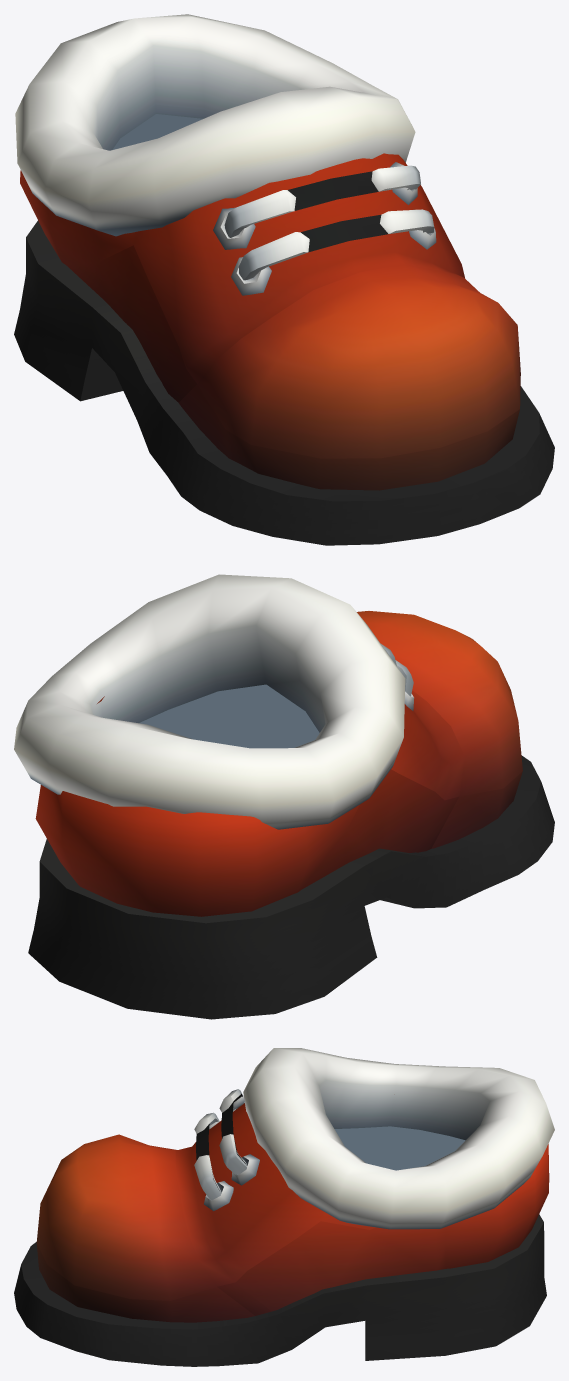
Rendered from Shoes_NY_01_L.gltf.
3 views of the same model, one above another, from view 1: azimuth 30°, elevation 25°; view 2: azimuth 150°, elevation 25°; view 3: azimuth 270°, elevation 25° (orthographic). The views are drawn at different scales.
Visible parts, largest first — view 1: Shoes_NY_01_L; view 2: Shoes_NY_01_L; view 3: Shoes_NY_01_L.
Part boxes in pixels (x1,y1,x2,y2): Shoes_NY_01_L: [14, 14, 554, 545]; Shoes_NY_01_L: [14, 574, 554, 1019]; Shoes_NY_01_L: [14, 1048, 554, 1366].
Bounding box in the file's own units: 0.3256 × 0.2723 × 0.5657.
2 materials, 2 textured.
